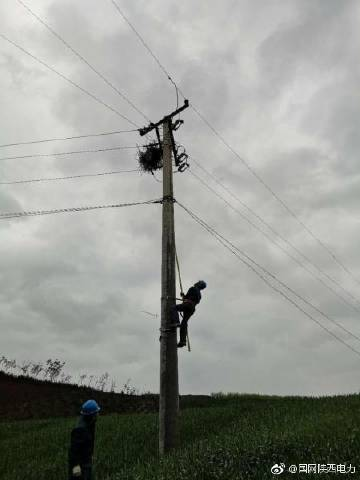bird-nest: (139, 144, 163, 170)
